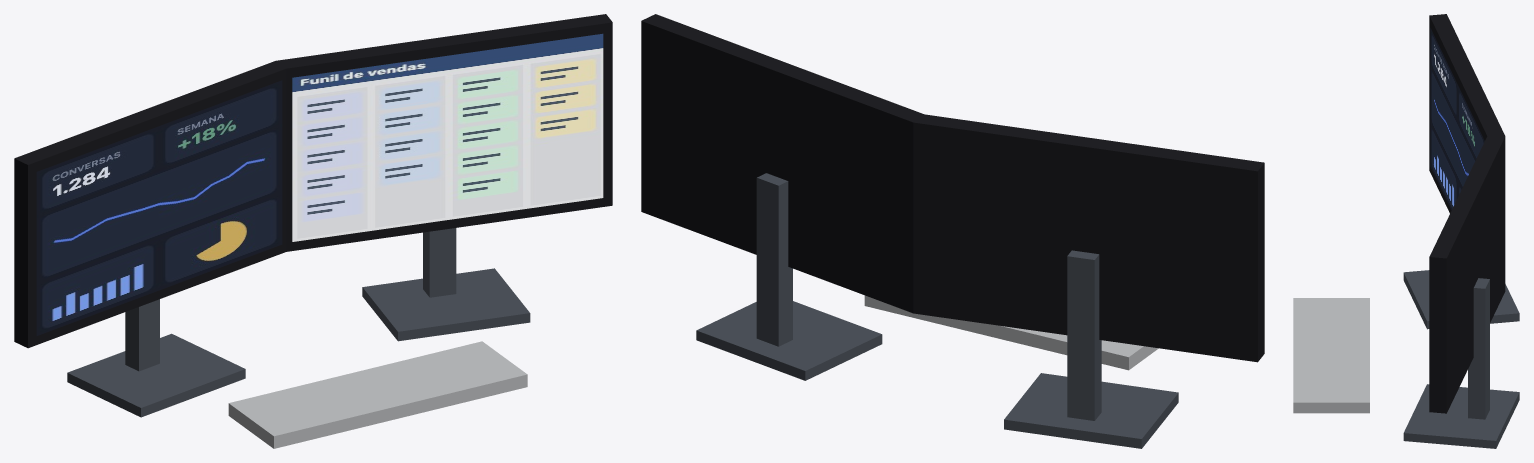
File: monitor-duplo.glb
3 renders of one model, left to right at view 1: azimuth 30°, elevation 25°; view 2: azimuth 150°, elevation 25°; view 3: azimuth 270°, elevation 25°, orthographic. The views are drawn at different scales.
Visible parts, largest first — view 1: monitor-duplo_malha; view 2: monitor-duplo_malha; view 3: monitor-duplo_malha.
Part boxes in pixels (box(x1,y1,x2,y2)): monitor-duplo_malha: box(14, 14, 612, 448); monitor-duplo_malha: box(641, 14, 1264, 448); monitor-duplo_malha: box(1293, 14, 1519, 448).
Bounding box in the file's own units: 0.98 × 0.42 × 0.3833.
Materials: 3 (1 with a texture image).
